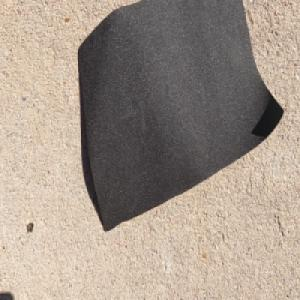PaintChip: (76, 0, 283, 235)
